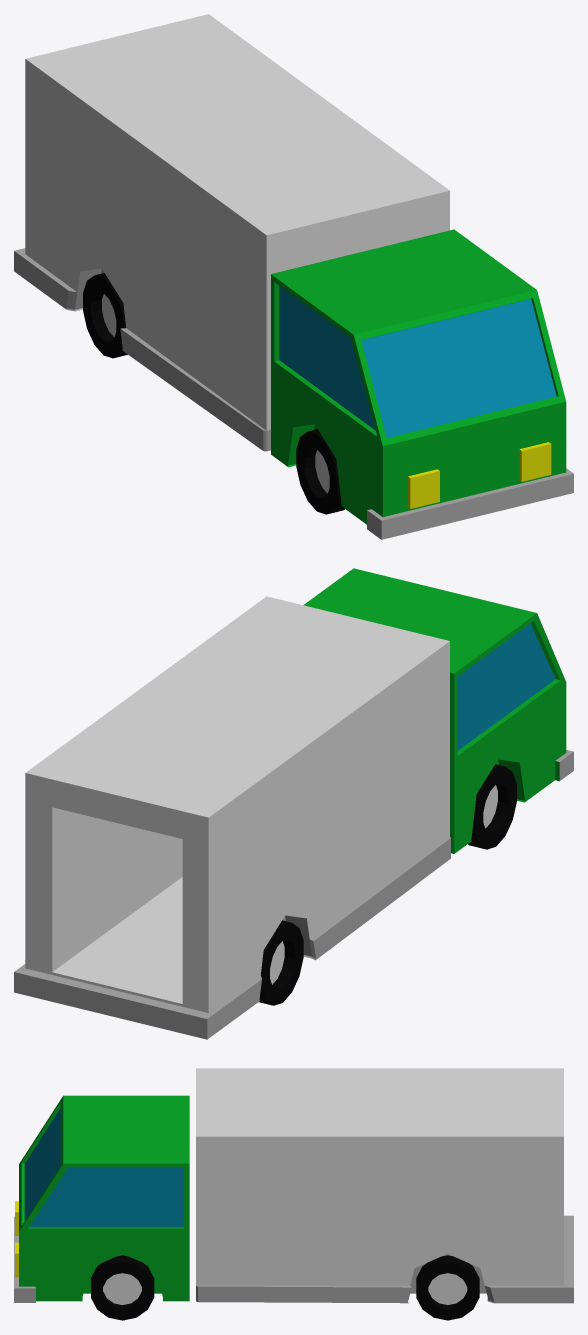
File: camionVert.fbx
3 views of the same model, one above another, from view 1: azimuth 30°, elevation 25°; view 2: azimuth 150°, elevation 25°; view 3: azimuth 270°, elevation 25° (orthographic). The views are drawn at different scales.
Parts seen in each view (by area): view 1: camion_vert; view 2: camion_vert; view 3: camion_vert.
Part boxes in pixels (x1,y1,x2,y2): camion_vert: (14, 14, 573, 539); camion_vert: (14, 568, 573, 1039); camion_vert: (14, 1068, 573, 1320).
Size of the model in its own units: 6.55 by 7.82 by 21.57.
